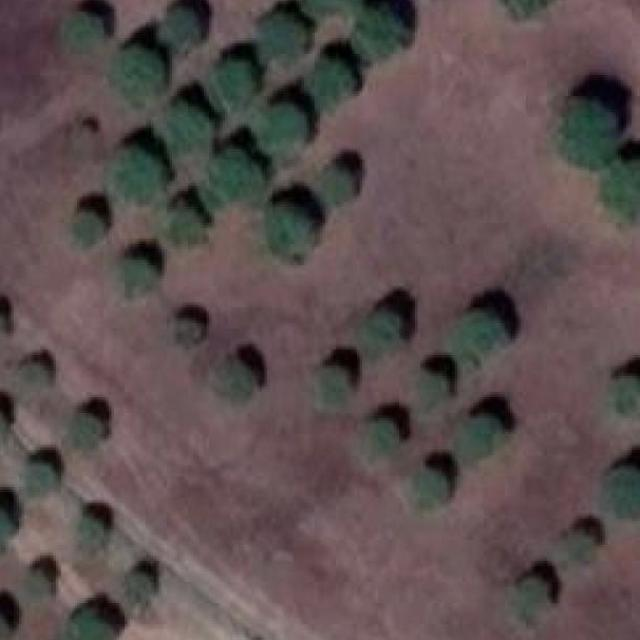Tree: (554, 96, 616, 168), (259, 198, 320, 260), (454, 310, 516, 366), (114, 45, 167, 107), (253, 101, 310, 158), (156, 104, 209, 160), (206, 152, 257, 208), (254, 15, 312, 62), (354, 9, 410, 55), (114, 149, 162, 202), (600, 159, 640, 221), (211, 57, 259, 105), (357, 416, 404, 464), (457, 416, 505, 462), (60, 12, 106, 59), (164, 202, 209, 247), (306, 60, 354, 102), (605, 466, 640, 522), (162, 4, 202, 52), (406, 466, 446, 513), (362, 307, 402, 353), (216, 364, 256, 406), (312, 366, 354, 406), (605, 371, 640, 418), (514, 577, 549, 624), (114, 252, 154, 292), (68, 207, 105, 247), (412, 373, 449, 413), (325, 164, 357, 202), (24, 460, 56, 496), (563, 527, 594, 564), (16, 363, 51, 395), (21, 571, 53, 603), (69, 613, 106, 640), (172, 318, 204, 349), (127, 572, 156, 606), (496, 0, 554, 17), (72, 413, 98, 448), (299, 0, 373, 12), (74, 515, 103, 545), (0, 506, 14, 551)
